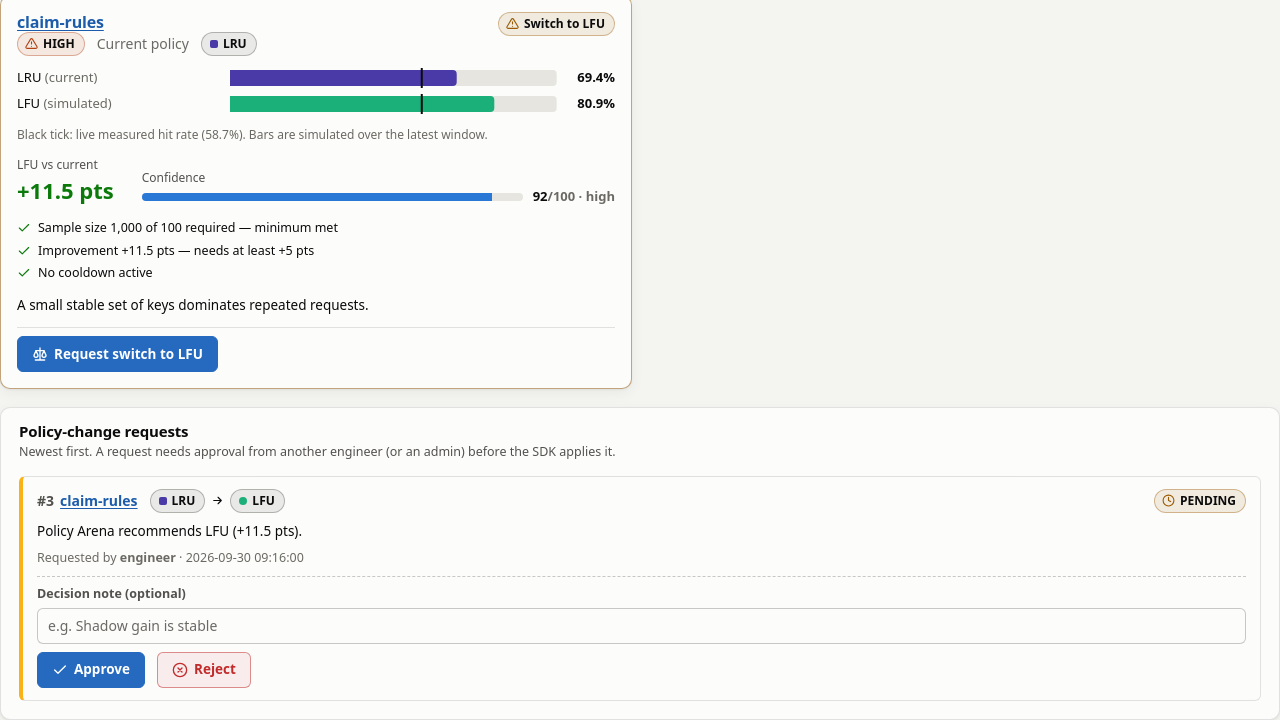
Test: Policy Arena: approvals › lets a different engineer approve, sending the optional note
(page scrolled)
Expected: the button "Approve" is enabled, [37,652,145,688]
In the field labelled "Decision note (optional)": [642, 626] box [37,608,1246,644], type "Shadow gain is stable"
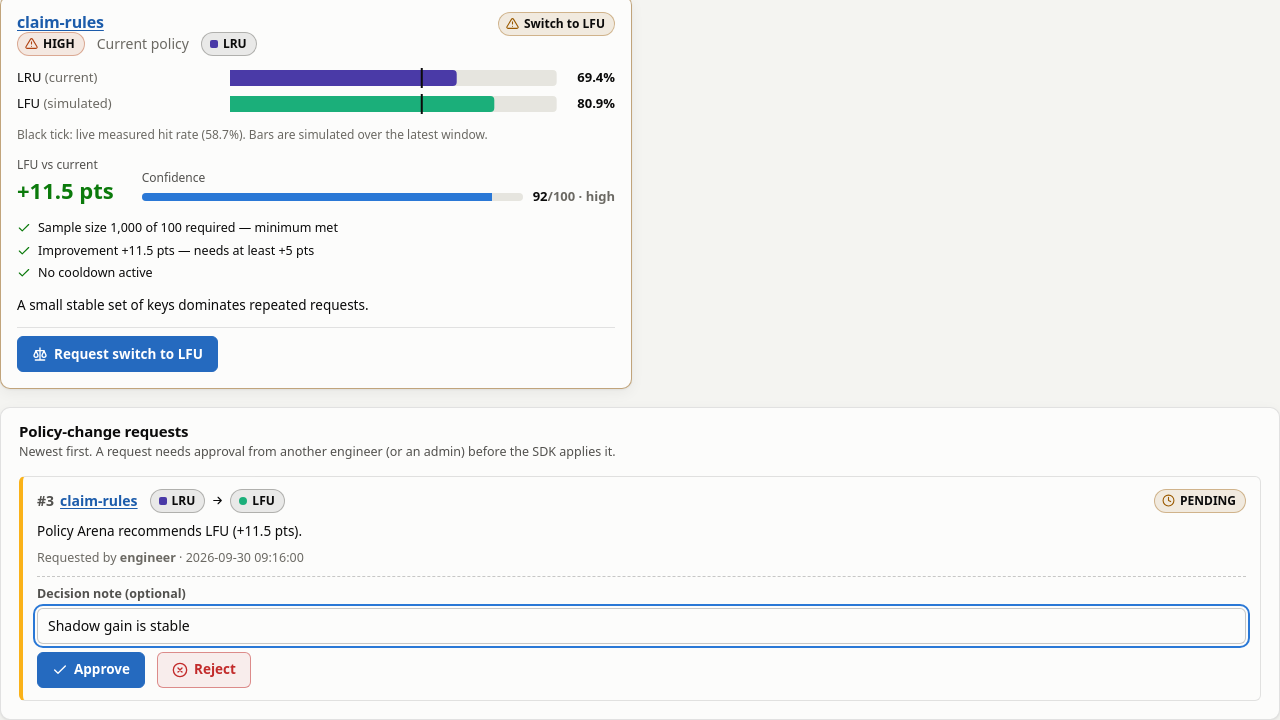
Click the button "Approve": [91, 670] box [37,652,145,688]
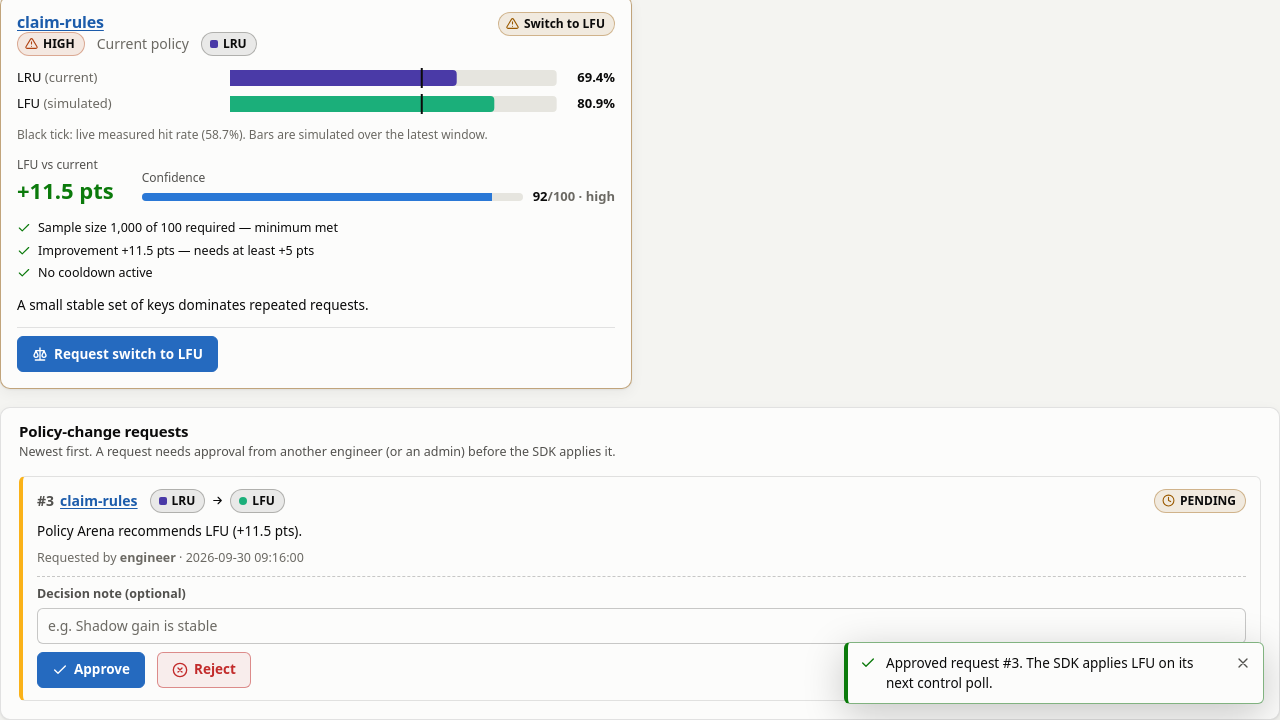
Expected: the text "Approved request #3" is shown, [886,654,1194,692]
